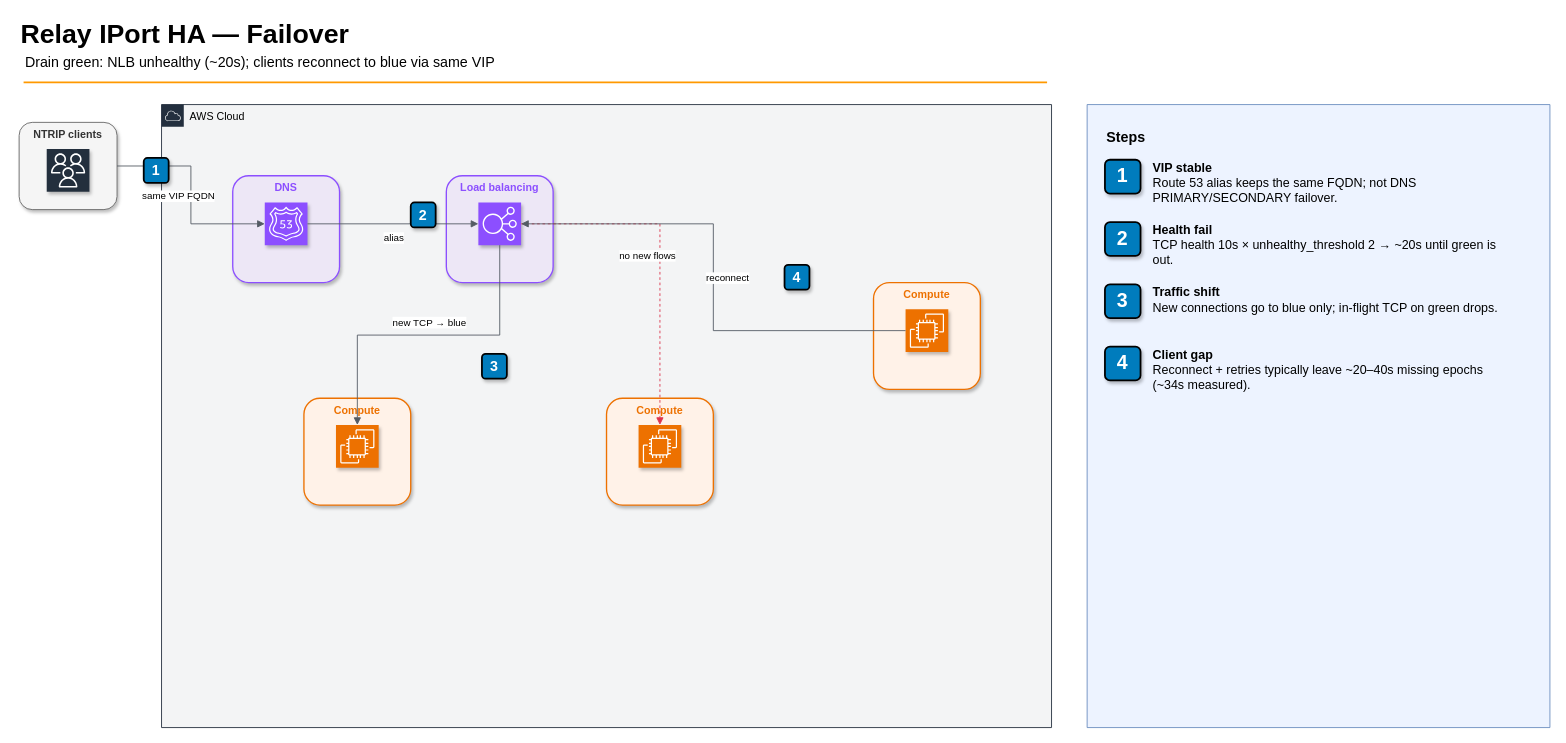
Some shapes in this 1566 by 743 pixel diagram are drawn without their labels. Each missing label, with the centre of its shape:
Blue caster healthy / active: pixel 358 447
BNC client ~34s RINEX gap: pixel 927 331
Green caster drained / unhealthy: pixel 660 447
Route 53 alias unchanged: pixel 286 224
Shared NLB TG health: pixel 500 224
